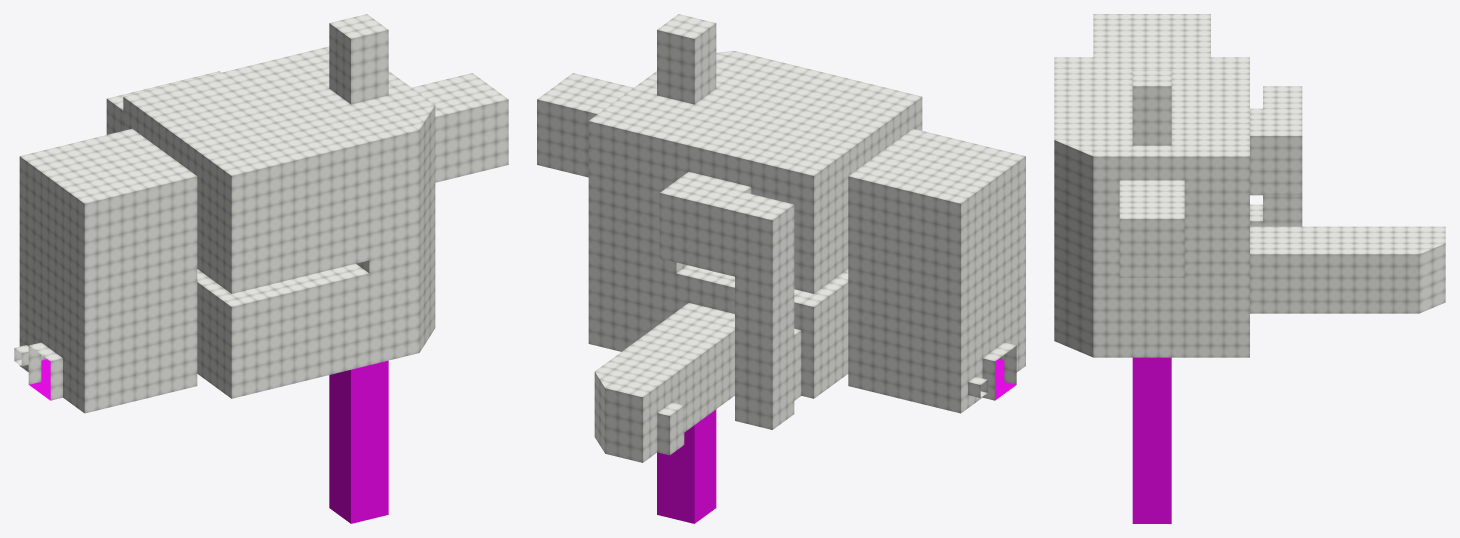
File: level1_doorway.fbx
The picture shows the model from 3 angles, left to right: view 1: azimuth 30°, elevation 25°; view 2: azimuth 150°, elevation 25°; view 3: azimuth 270°, elevation 25°; orthographic projection. The views are drawn at different scales.
Parts seen in each view (by area): view 1: level1_doorway; view 2: level1_doorway; view 3: level1_doorway.
Part boxes in pixels (x1,y1,x2,y2): level1_doorway: [14, 14, 508, 523]; level1_doorway: [537, 14, 1025, 523]; level1_doorway: [1054, 14, 1445, 523].
Size of the model in its own units: 30 by 36 by 37.
Materials: 2 (1 with a texture image).
